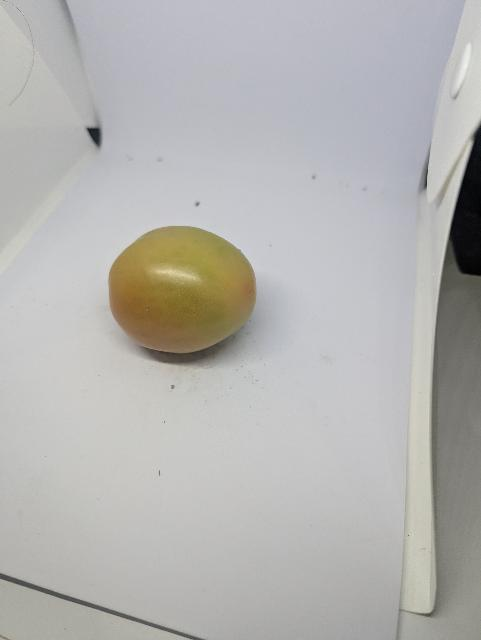breaker: (102, 220, 263, 363)
